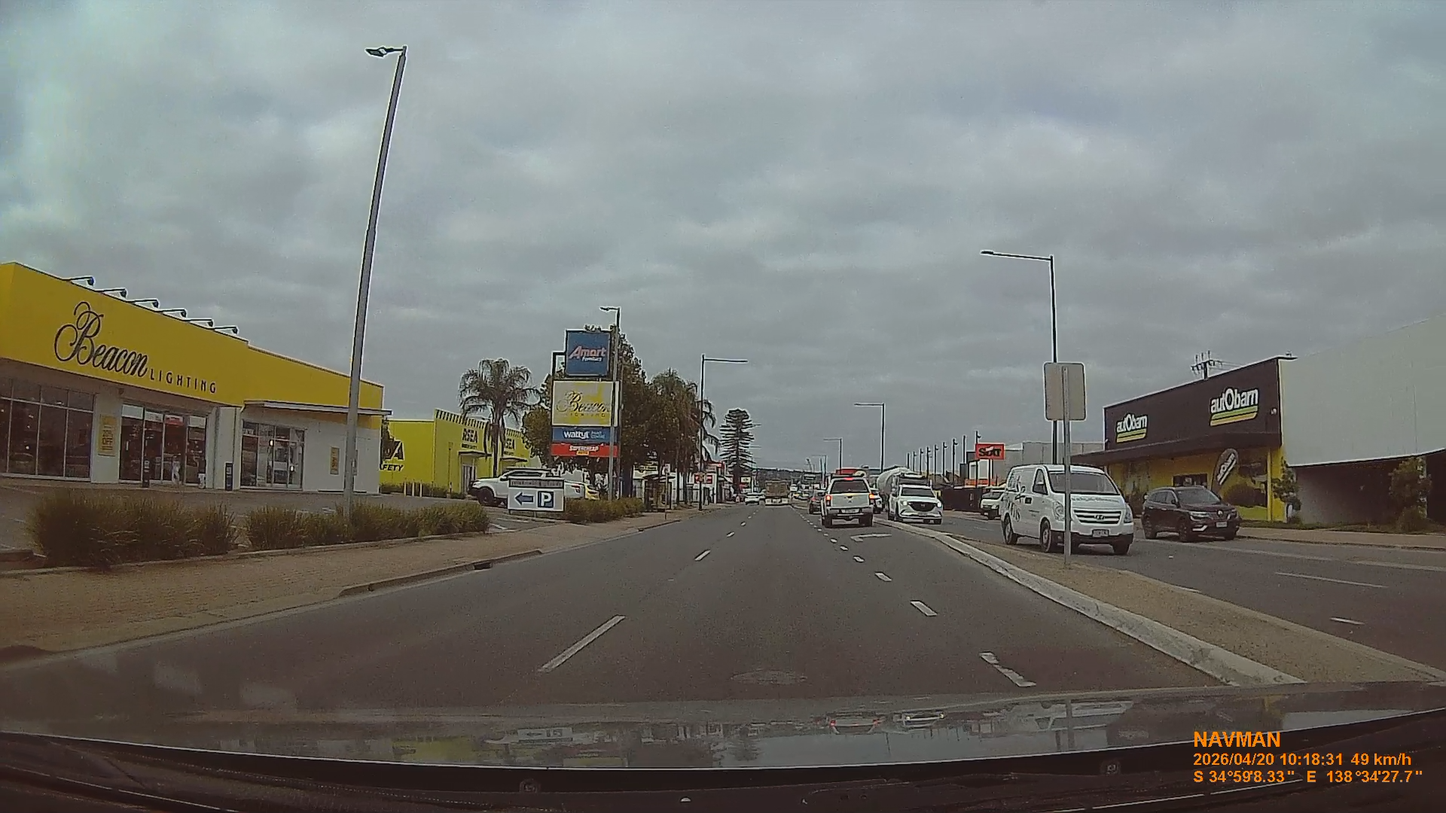fences: (1292, 461, 1430, 528)
